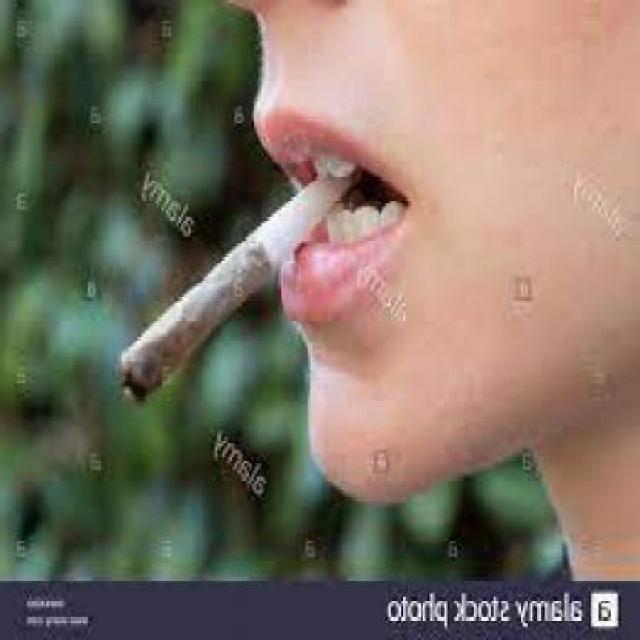cigarette: (103, 177, 335, 400)
